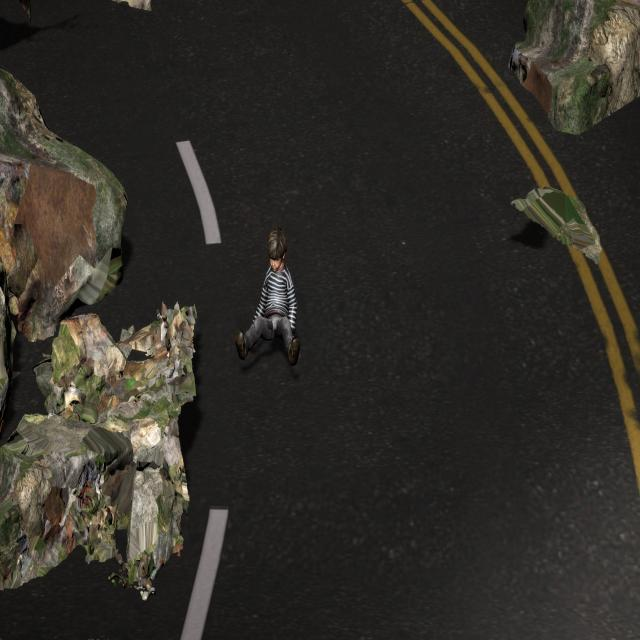Human: (232, 214, 303, 372)
